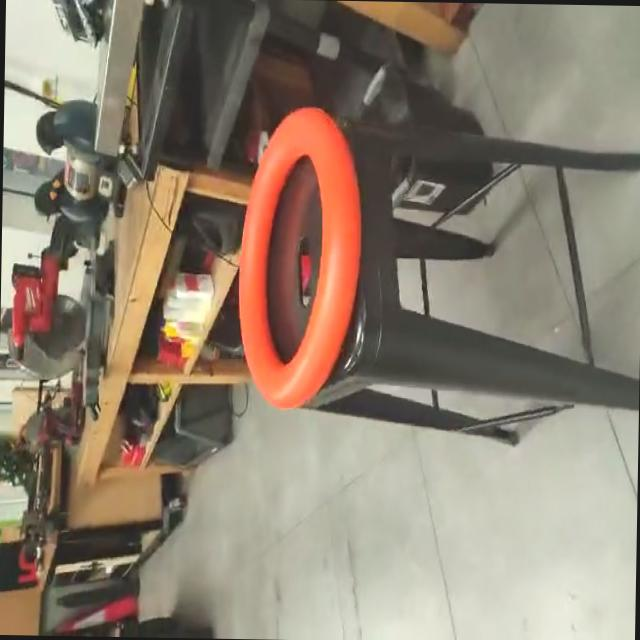note: (232, 102, 374, 416)
